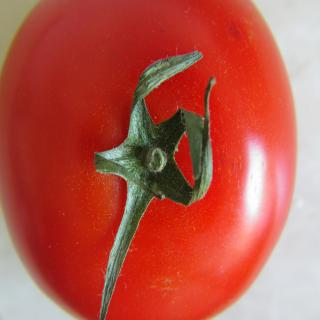tomato: (0, 0, 295, 319)
